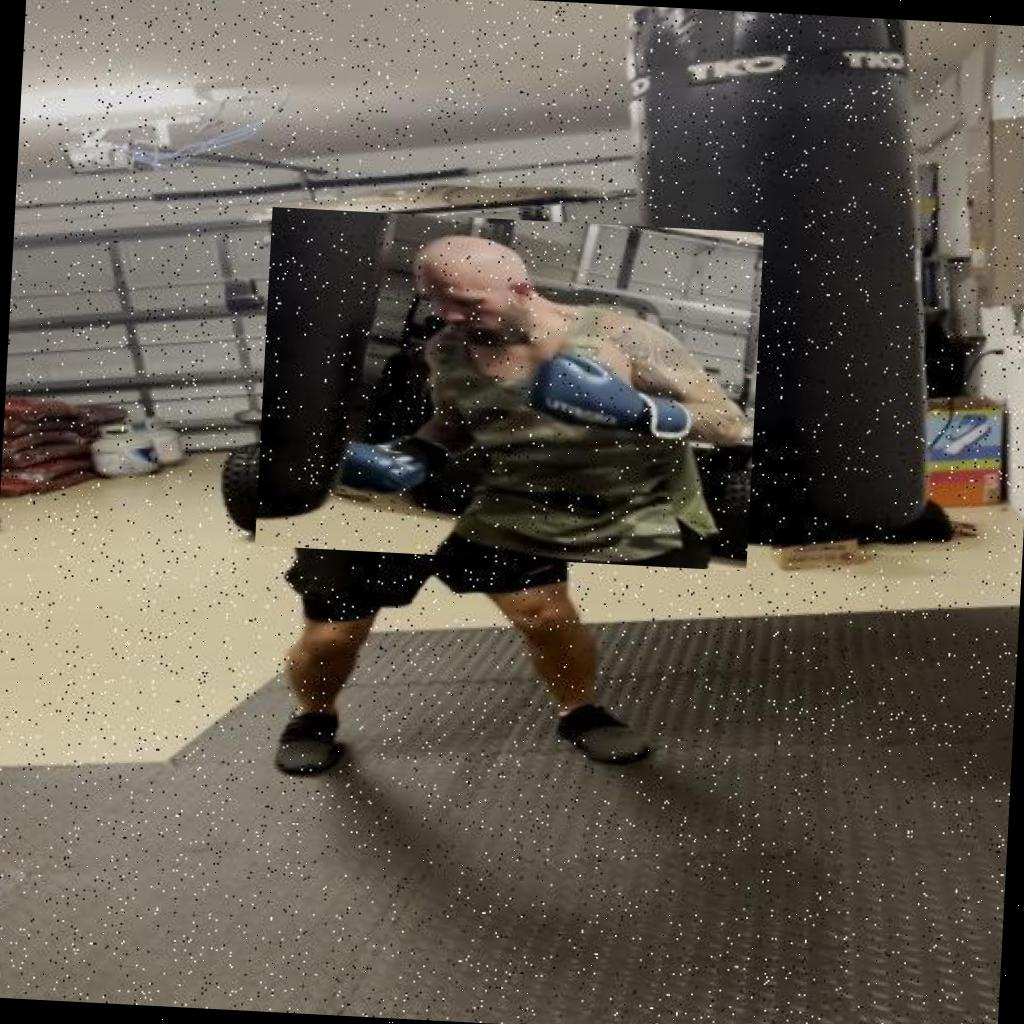bag: (577, 4, 1006, 576)
uppercut: (255, 206, 764, 572)
